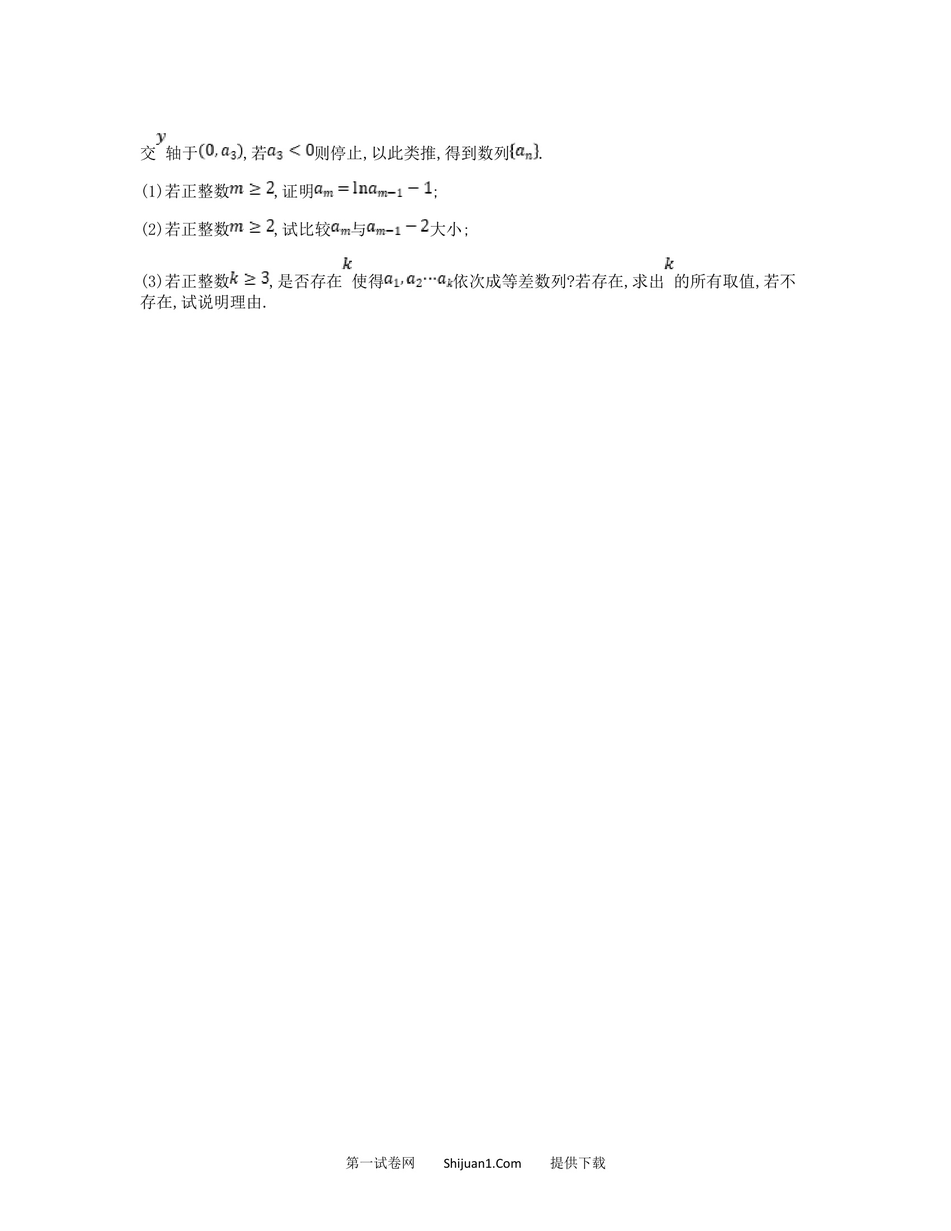question: (131, 111, 818, 339)
